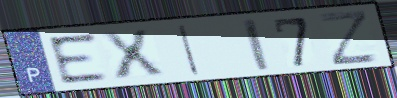7: (271, 16, 311, 69)
E: (44, 31, 111, 86)
I: (240, 17, 273, 73), (176, 22, 203, 78)
X: (97, 27, 168, 82)
Z: (316, 8, 381, 68)
